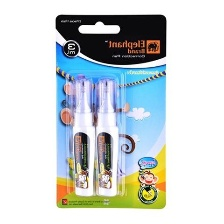book: (53, 11, 168, 211)
correction_fluid: (69, 77, 96, 198), (94, 77, 120, 198)
